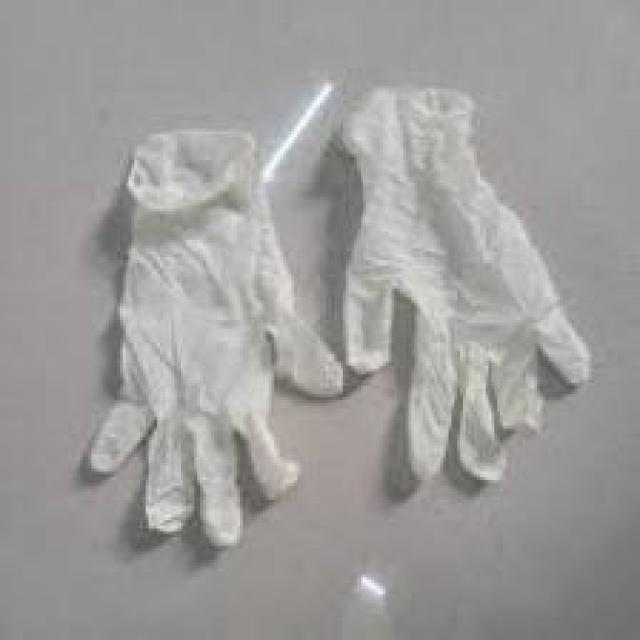Glove: (86, 63, 622, 577)
